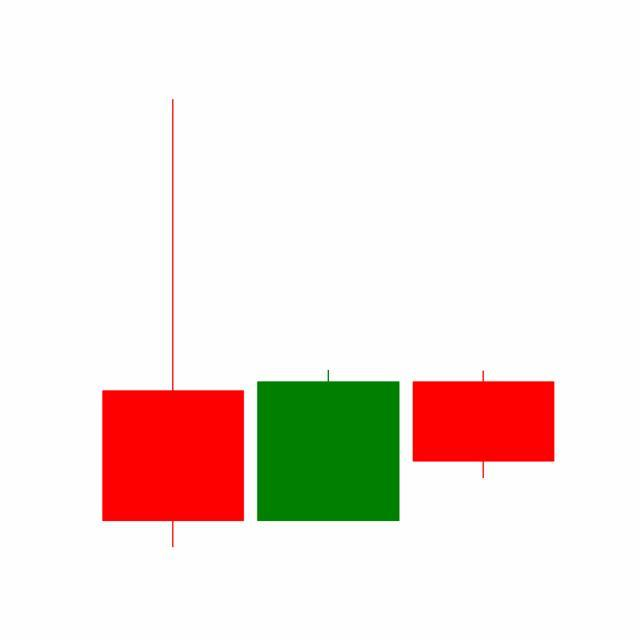Marubozu: (250, 369, 407, 524)
